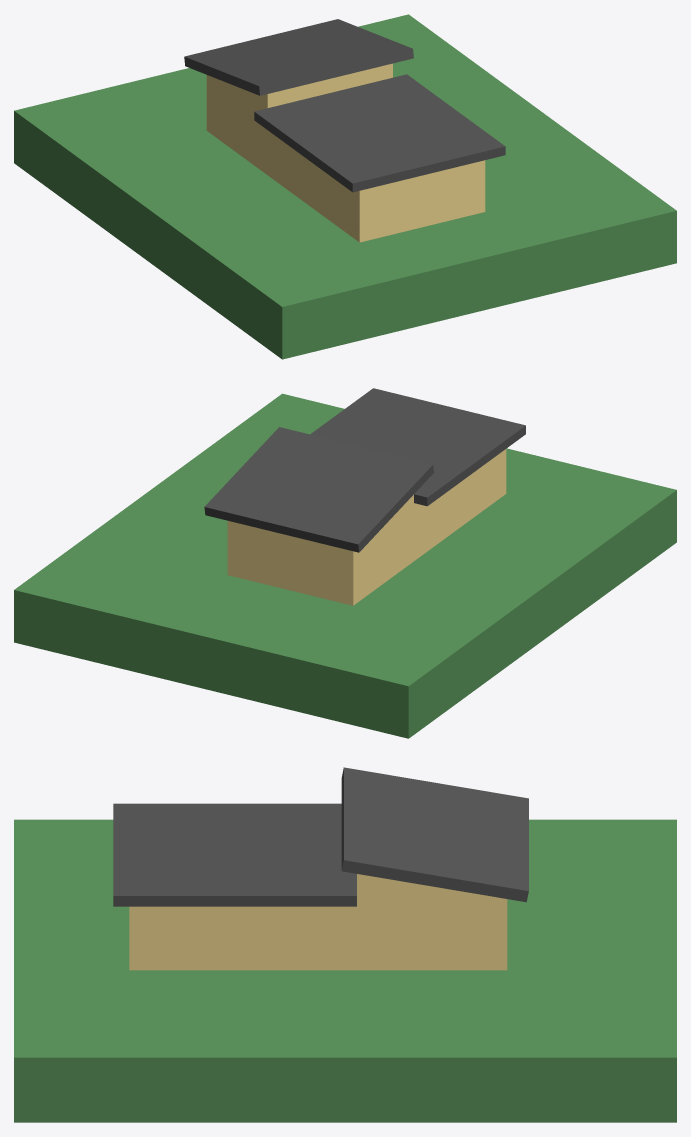
3 views of the same model, one above another, from view 1: azimuth 30°, elevation 25°; view 2: azimuth 150°, elevation 25°; view 3: azimuth 270°, elevation 25° (orthographic). The views are drawn at different scales.
Visible parts, largest first — view 1: group_0, group_2, group_1, group_3; view 2: group_0, group_3, group_1, group_2; view 3: group_0, group_1, group_2, group_3.
Boxes of the visible parts, x1=… form: group_0: x1=14, y1=14, x2=676, y2=359; group_2: x1=254, y1=74, x2=505, y2=192; group_1: x1=206, y1=63, x2=485, y2=242; group_3: x1=184, y1=19, x2=413, y2=95; group_0: x1=14, y1=393, x2=676, y2=738; group_3: x1=204, y1=427, x2=433, y2=552; group_1: x1=227, y1=449, x2=506, y2=605; group_2: x1=310, y1=388, x2=525, y2=506; group_0: x1=14, y1=819, x2=676, y2=1122; group_1: x1=129, y1=874, x2=507, y2=970; group_2: x1=113, y1=803, x2=356, y2=906; group_3: x1=341, y1=767, x2=528, y2=902.
Size of the model in its own units: 13.93 by 16.4 by 5.02.
